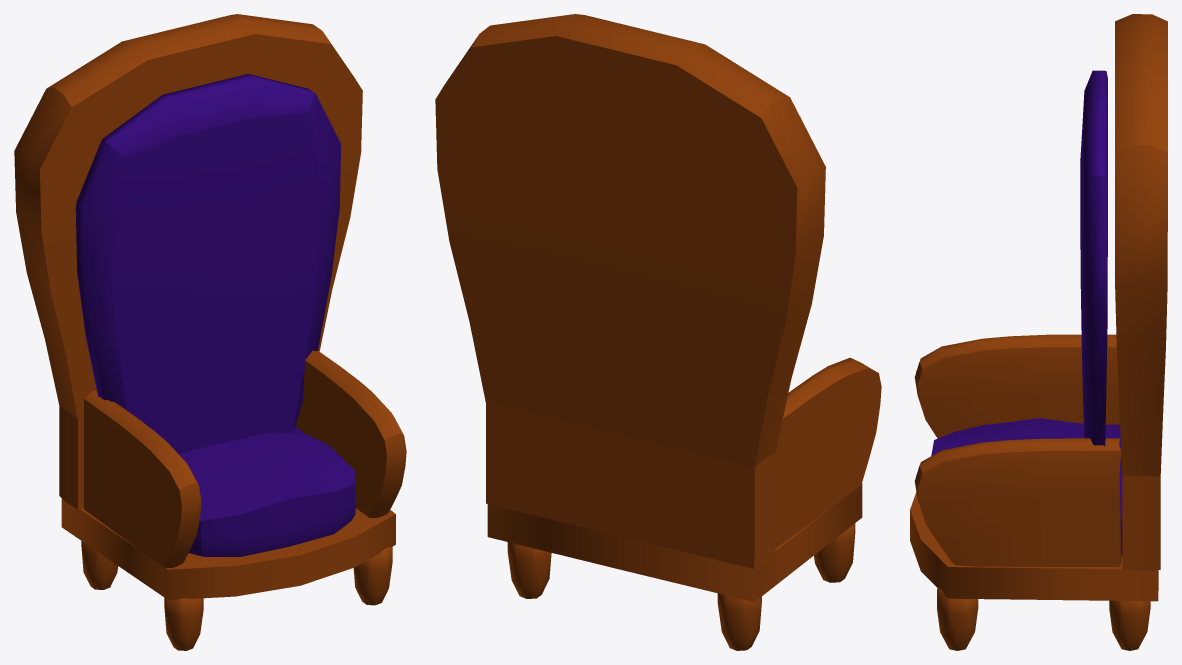
Rendered from poltrona.FBX.
3 renders of one model, left to right at view 1: azimuth 30°, elevation 25°; view 2: azimuth 150°, elevation 25°; view 3: azimuth 270°, elevation 25°, orthographic. The views are drawn at different scales.
Visible parts, largest first — view 1: Box001; view 2: Box001; view 3: Box001.
Boxes of the visible parts, x1,y1,x2,y2 form: Box001: (14,14,406,650); Box001: (435,14,881,650); Box001: (910,14,1167,650).
Bounding box in the file's own units: 73.3 × 115 × 48.85.
